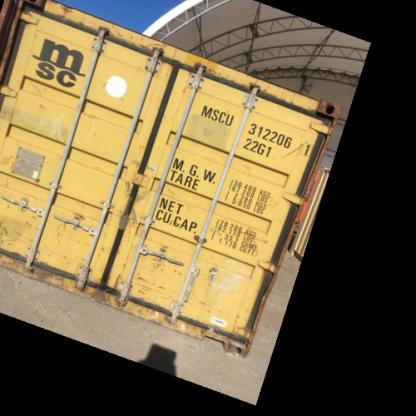Damage: (193, 292, 254, 342), (0, 210, 38, 260), (259, 266, 285, 321), (138, 268, 180, 301), (46, 204, 84, 237), (86, 272, 118, 306), (34, 260, 70, 288), (233, 222, 271, 248), (283, 137, 313, 166), (47, 0, 79, 22), (100, 73, 125, 100), (205, 62, 234, 82), (280, 82, 298, 108), (141, 33, 165, 52), (253, 78, 275, 98), (163, 180, 185, 199), (105, 22, 124, 42), (239, 157, 257, 175), (116, 254, 130, 273), (95, 237, 106, 259), (82, 109, 100, 122), (30, 170, 44, 186), (33, 101, 52, 112)
